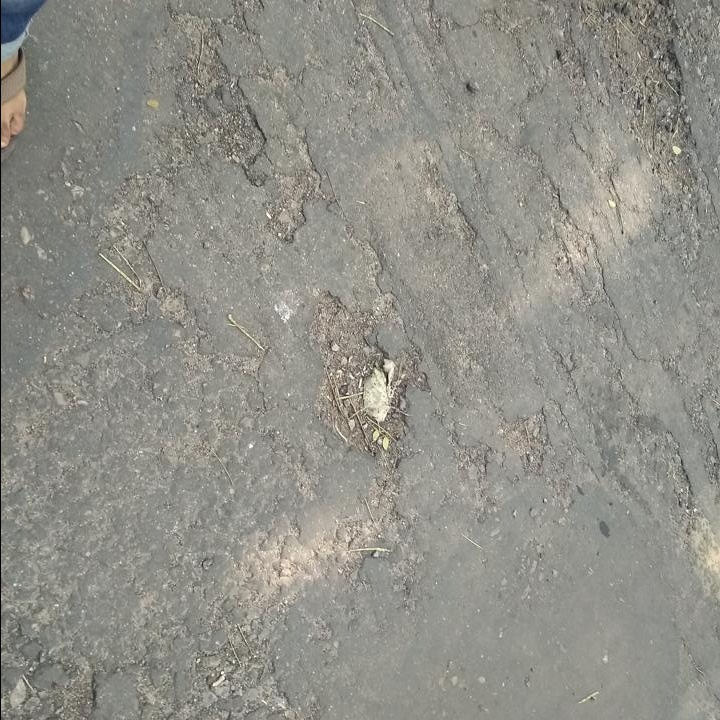pothole: (579, 0, 694, 200), (302, 289, 416, 473), (273, 149, 327, 247), (218, 94, 270, 171), (499, 403, 553, 477)
